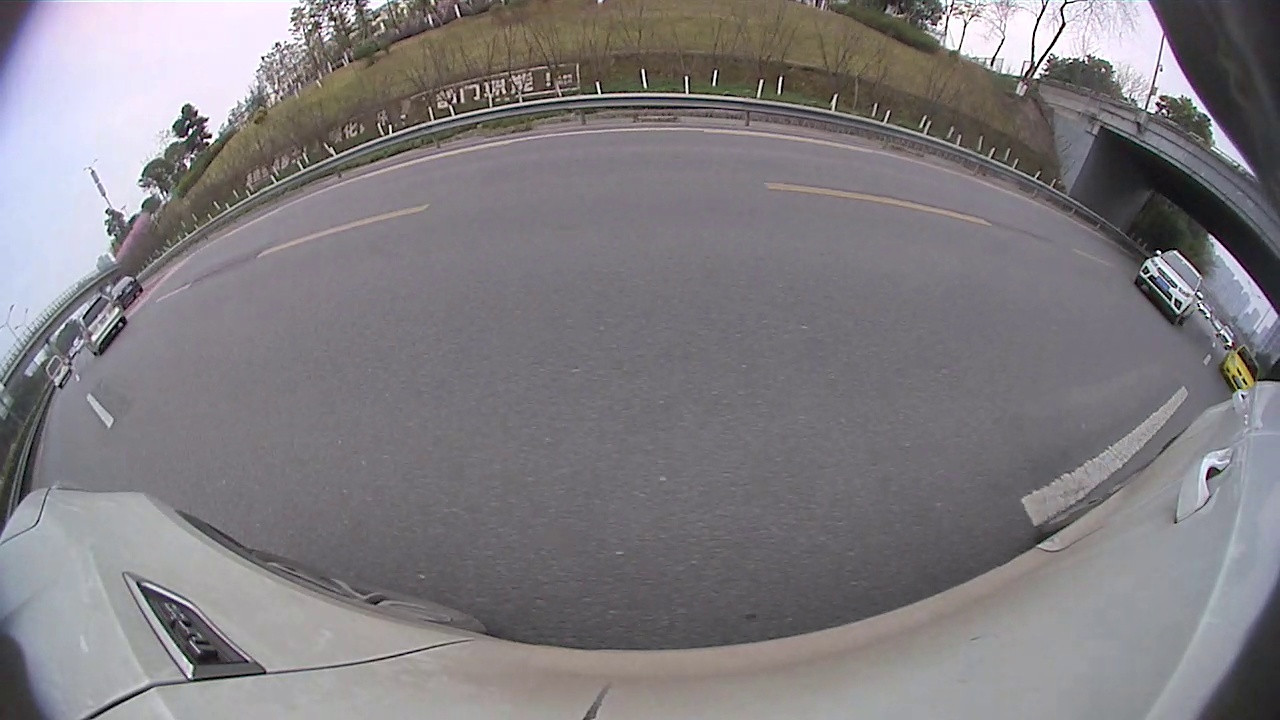car: (876, 162, 1218, 375), (352, 147, 534, 249), (612, 139, 712, 213), (528, 158, 588, 199), (710, 150, 760, 195)
front: (881, 208, 921, 256), (525, 186, 536, 217)
rear: (1057, 283, 1121, 358), (466, 195, 491, 240)
